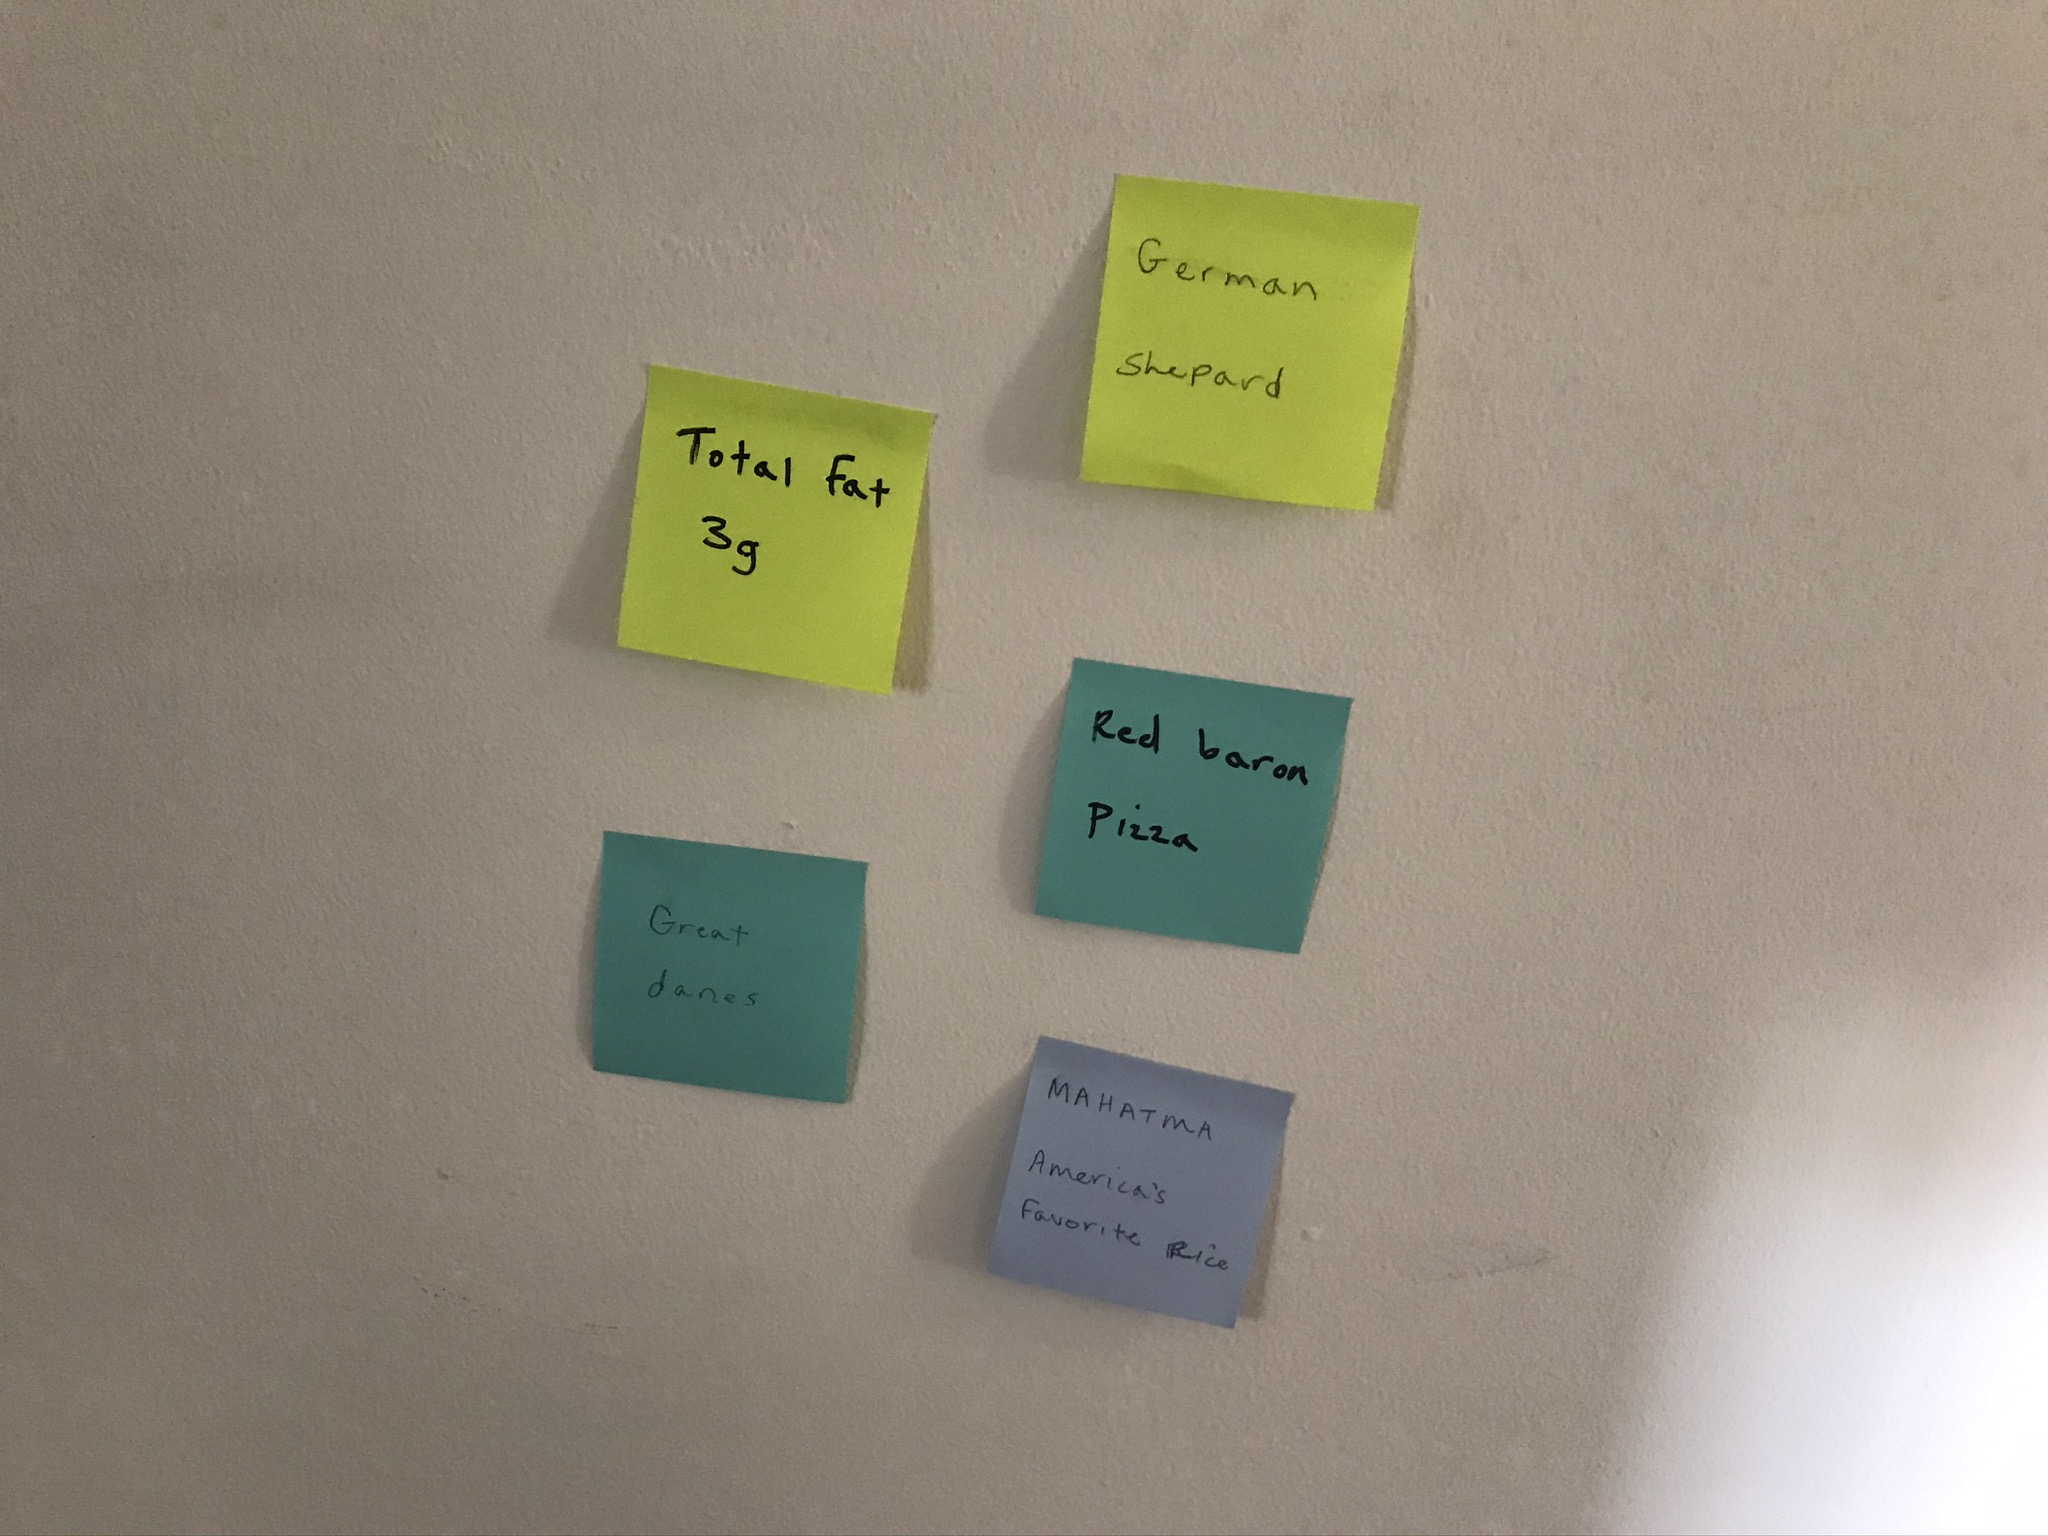sticky: (1077, 173, 1421, 516), (613, 361, 937, 699), (1034, 657, 1353, 954), (989, 1034, 1293, 1329), (590, 829, 868, 1105)
